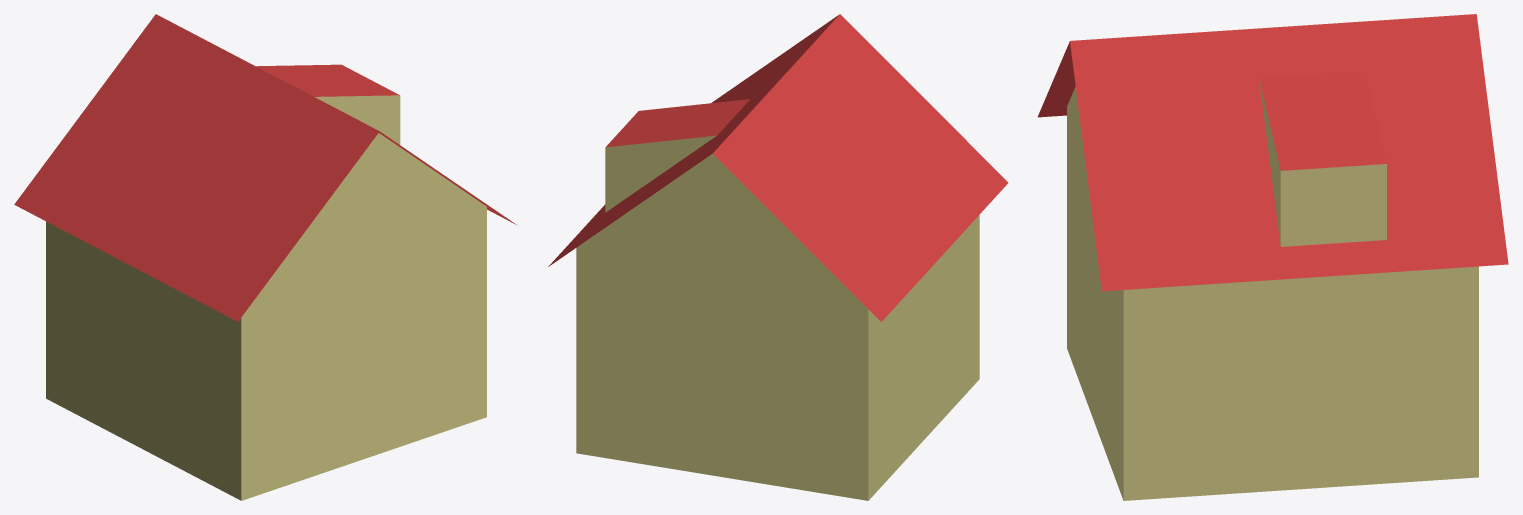
The picture shows the model from 3 angles, left to right: view 1: azimuth 30°, elevation 25°; view 2: azimuth 150°, elevation 25°; view 3: azimuth 270°, elevation 25°; orthographic projection. The views are drawn at different scales.
Bounding box in the file's own units: 13.68 × 13.56 × 12.28.
